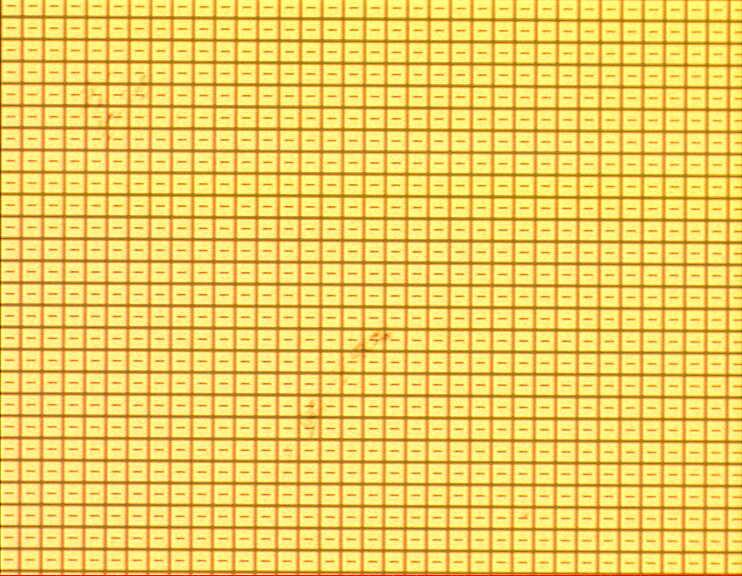SCRATCH: (291, 321, 400, 451)
